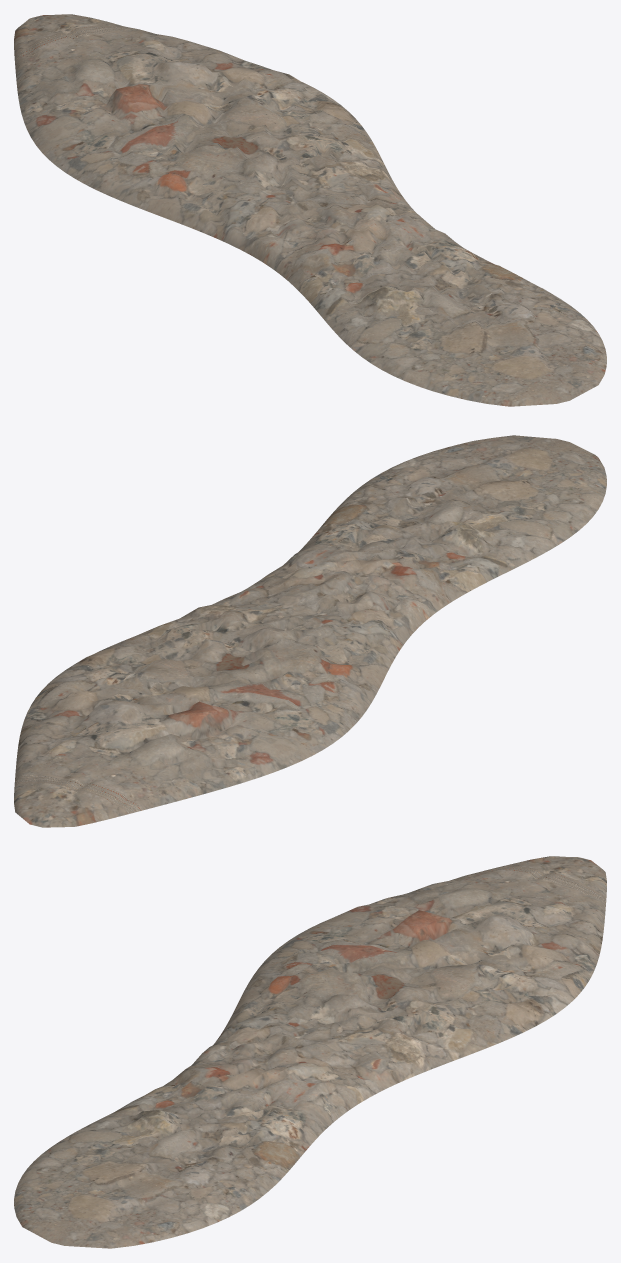
Rendered from scan-rubble-b.fbx.
3 renders of one model, top to bottom at view 1: azimuth 30°, elevation 25°; view 2: azimuth 150°, elevation 25°; view 3: azimuth 330°, elevation 25°, orthographic.
Parts seen in each view (by area): view 1: scan-rubble-b; view 2: scan-rubble-b; view 3: scan-rubble-b.
Part boxes in pixels (x1,y1,x2,y2): scan-rubble-b: (14, 14, 606, 406); scan-rubble-b: (14, 435, 606, 827); scan-rubble-b: (14, 856, 606, 1248).
Size of the model in its own units: 52.64 by 5.71 by 174.
1 material, 1 textured.
